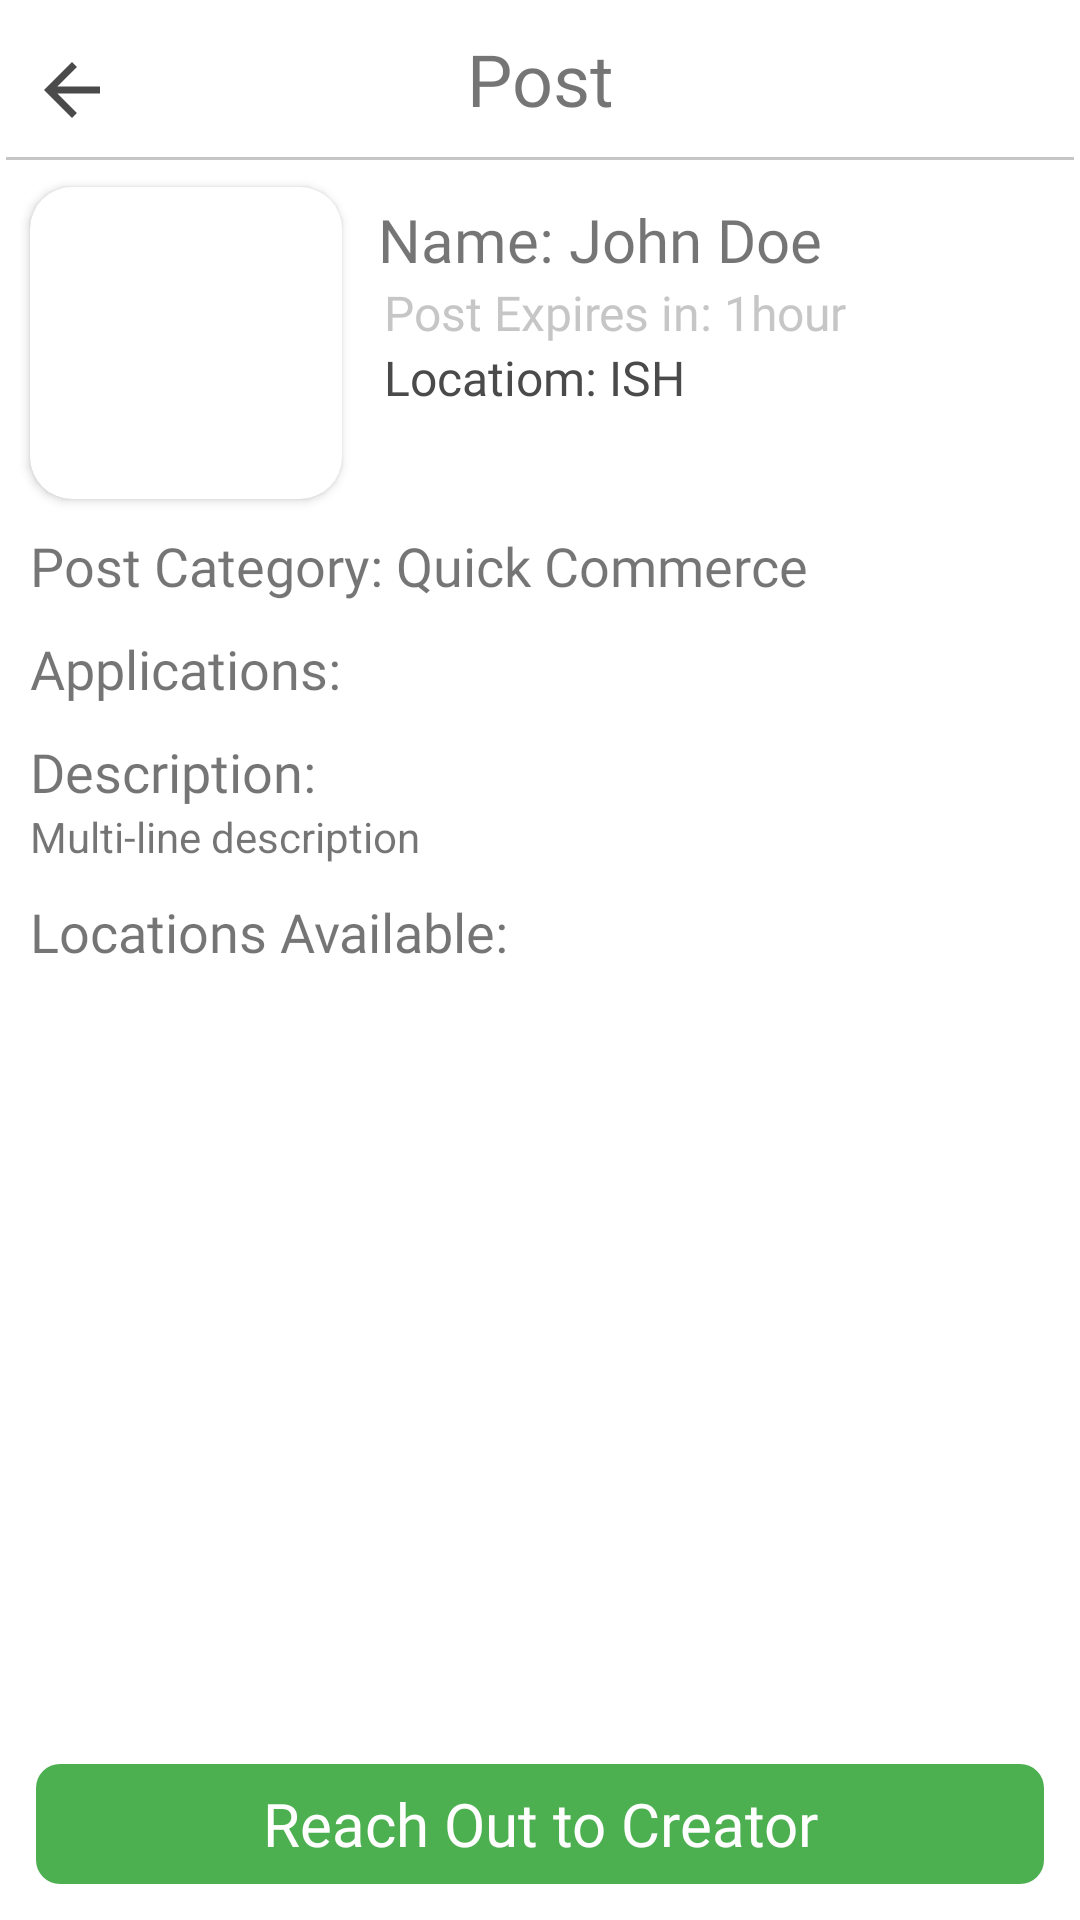

Icon bounding boxes for this 1080*1920 phone screenshot, format Rect(x1, y1, x2, y2):
back arrow: Rect(44, 62, 100, 118)
